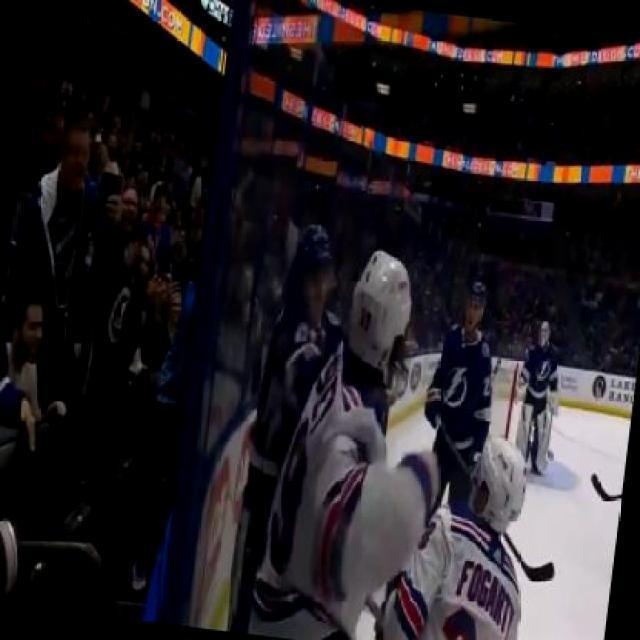fight: (226, 222, 469, 638)
non-fight: (13, 110, 132, 384), (422, 282, 508, 444), (508, 311, 572, 474)
